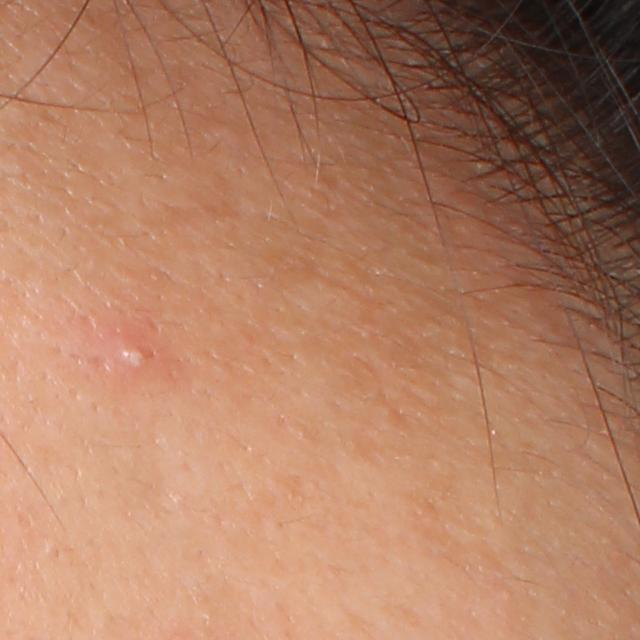pustule: (102, 326, 158, 376)
